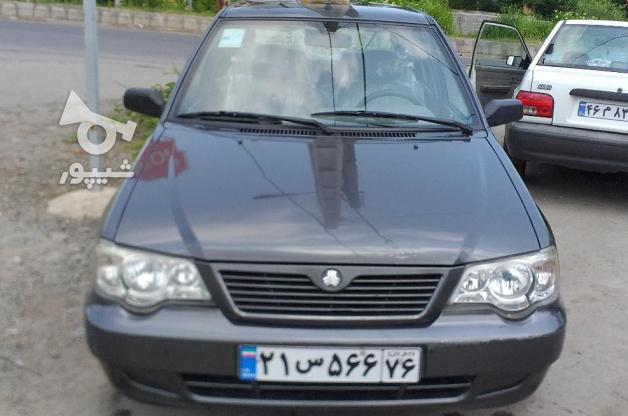car: (237, 342, 423, 383), (577, 98, 628, 121)
